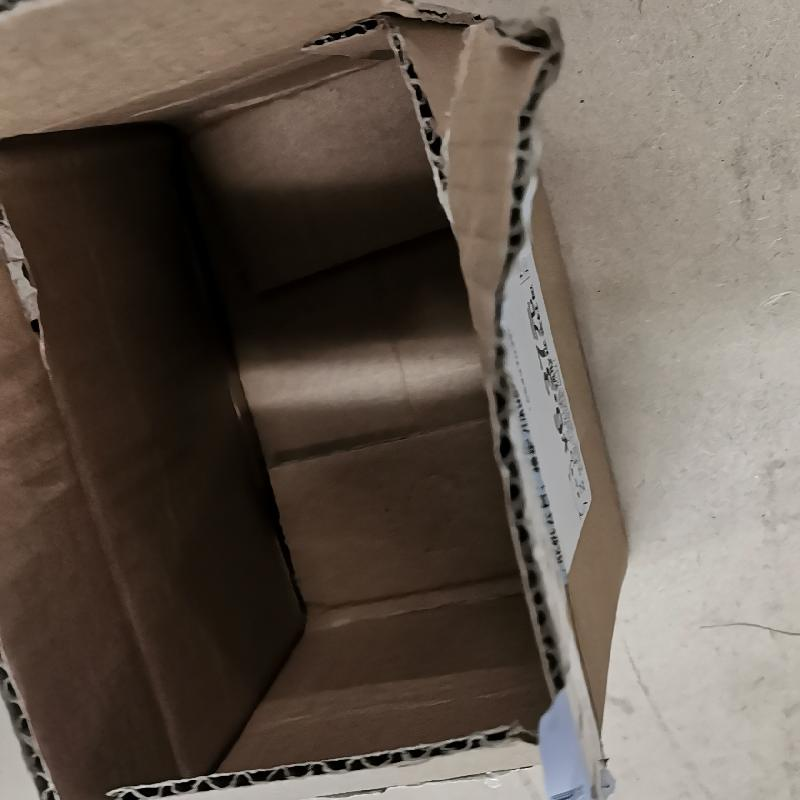boxes: (3, 1, 675, 799)
